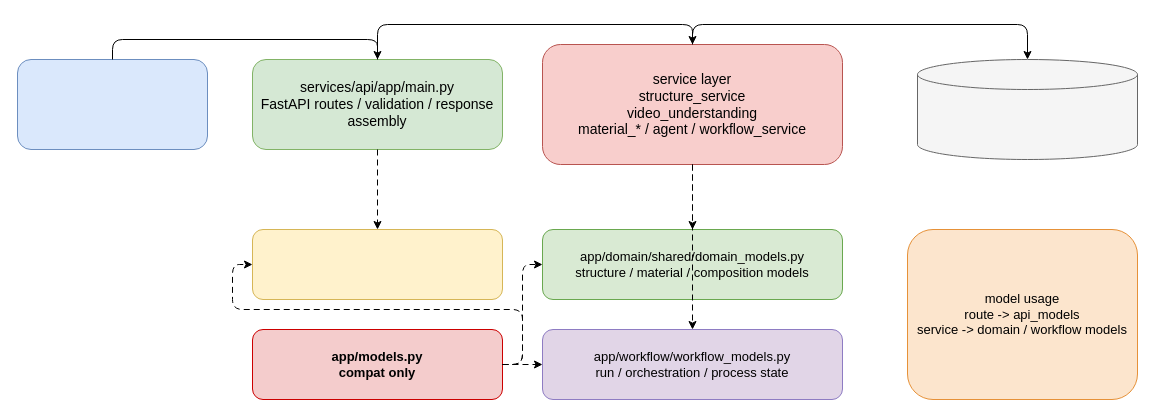
Some shapes in this 1155 by 417 pixel diagram are drawn without their labels. Here are the shapes that lost their labels. From the top down, the box of each, then its label:
(16, 58, 208, 150): apps/web Workspace UI / Hooks / Views
(916, 58, 1138, 160): storage/ downloads / output / samples keyframes / materials / runs / templates
(252, 228, 502, 300): app/api/api_models.py API request / response models
